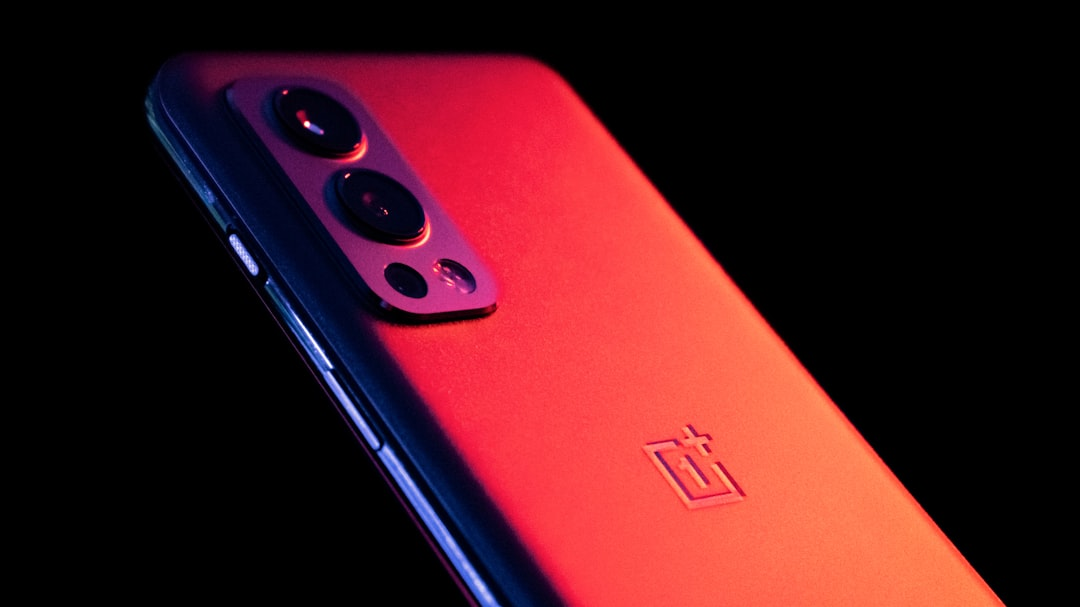phone: (137, 39, 1014, 607)
